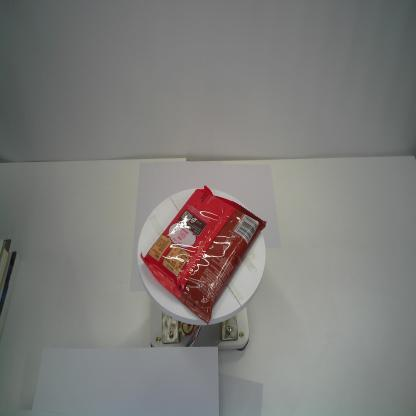Dessert: (140, 184, 267, 326)
